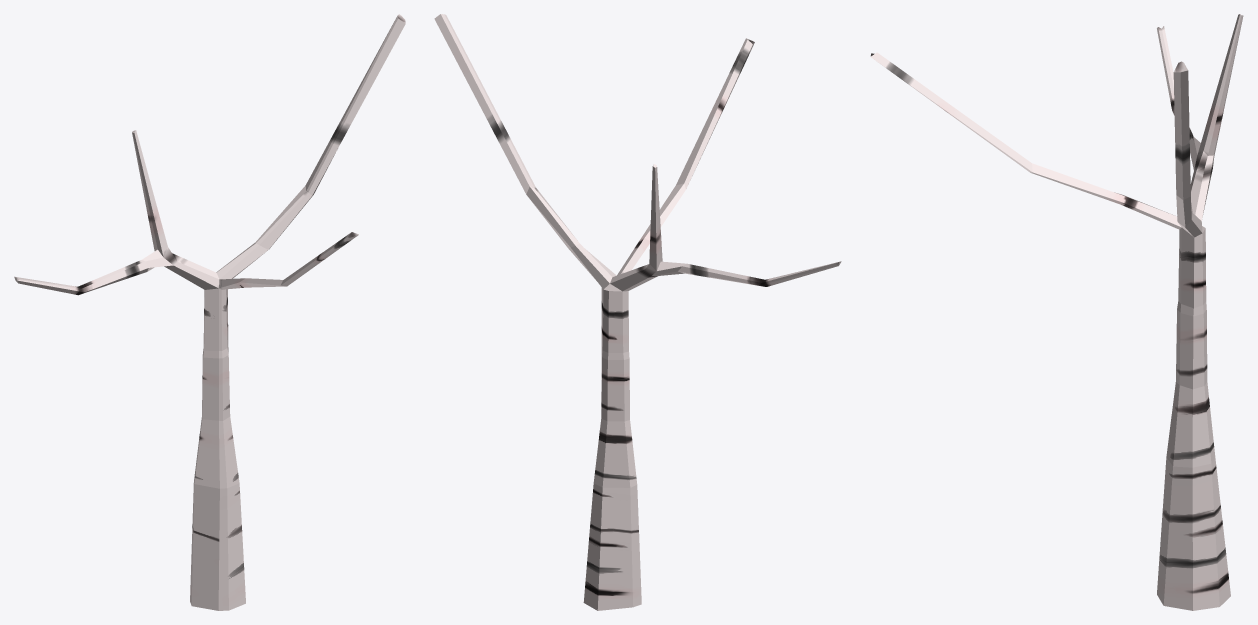
Rendered from Dry-Birch_1.fbx.
3 renders of one model, left to right at view 1: azimuth 30°, elevation 25°; view 2: azimuth 150°, elevation 25°; view 3: azimuth 270°, elevation 25°, orthographic. The views are drawn at different scales.
Parts seen in each view (by area): view 1: Dry-Birch 1_LOD0; view 2: Dry-Birch 1_LOD0; view 3: Dry-Birch 1_LOD0.
Boxes of the visible parts, <box> form: Dry-Birch 1_LOD0: <box>14,14,405,610</box>; Dry-Birch 1_LOD0: <box>434,14,841,610</box>; Dry-Birch 1_LOD0: <box>870,14,1243,610</box>.
Size of what is drawn, in the model's own units: 381 by 498 by 265.
